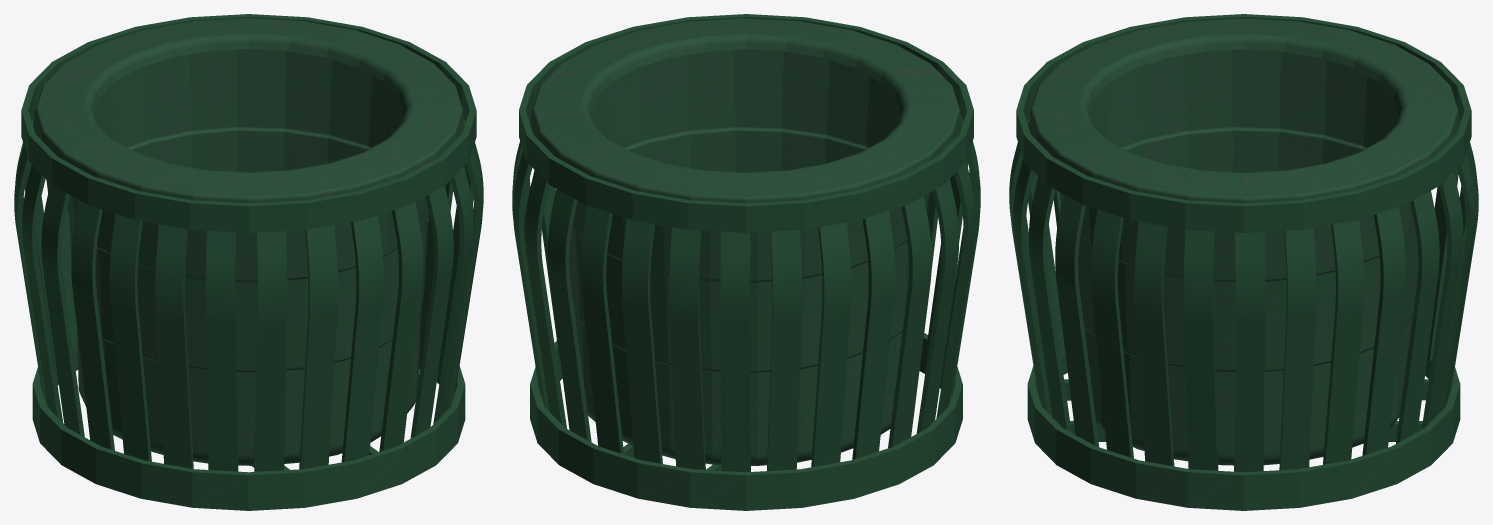
3 views of the same model, side by side, from view 1: azimuth 30°, elevation 25°; view 2: azimuth 150°, elevation 25°; view 3: azimuth 270°, elevation 25° (orthographic).
Visible parts, largest first — view 1: mesh7.001_mesh7-geometry, mesh1.001_mesh1-geometry, mesh12.001_mesh12-geometry, mesh13.001_mesh13-geometry, mesh38.001_mesh38-geometry, mesh39.001_mesh39-geometry, mesh40.001_mesh40-geometry, mesh37.001_mesh37-geometry, mesh15.001_mesh15-geometry, mesh36.001_mesh36-geometry, mesh14.001_mesh14-geometry, mesh35.001_mesh35-geometry (+10 smaller); view 2: mesh7.001_mesh7-geometry, mesh1.001_mesh1-geometry, mesh13.001_mesh13-geometry, mesh12.001_mesh12-geometry, mesh21.001_mesh21-geometry, mesh22.001_mesh22-geometry, mesh41.001_mesh41-geometry, mesh19.001_mesh19-geometry, mesh42.001_mesh42-geometry, mesh20.001_mesh20-geometry, mesh23.001_mesh23-geometry, mesh18.001_mesh18-geometry (+9 smaller); view 3: mesh7.001_mesh7-geometry, mesh1.001_mesh1-geometry, mesh13.001_mesh13-geometry, mesh12.001_mesh12-geometry, mesh30.001_mesh30-geometry, mesh28.001_mesh28-geometry, mesh29.001_mesh29-geometry, mesh31.001_mesh31-geometry, mesh26.001_mesh26-geometry, mesh32.001_mesh32-geometry, mesh27.001_mesh27-geometry, mesh33.001_mesh33-geometry (+9 smaller).
Part boxes in pixels (left/top/right/bottom): mesh7.001_mesh7-geometry: left=67, top=49, right=429, bottom=465; mesh1.001_mesh1-geometry: left=33, top=18, right=464, bottom=203; mesh12.001_mesh12-geometry: left=21, top=14, right=476, bottom=232; mesh13.001_mesh13-geometry: left=32, top=350, right=465, bottom=510; mesh38.001_mesh38-geometry: left=254, top=231, right=287, bottom=471; mesh39.001_mesh39-geometry: left=205, top=230, right=238, bottom=471; mesh40.001_mesh40-geometry: left=155, top=224, right=193, bottom=468; mesh37.001_mesh37-geometry: left=299, top=225, right=337, bottom=469; mesh15.001_mesh15-geometry: left=109, top=214, right=151, bottom=461; mesh36.001_mesh36-geometry: left=341, top=215, right=383, bottom=462; mesh14.001_mesh14-geometry: left=71, top=200, right=114, bottom=450; mesh35.001_mesh35-geometry: left=379, top=202, right=423, bottom=451; mesh7.001_mesh7-geometry: left=569, top=49, right=929, bottom=465; mesh1.001_mesh1-geometry: left=530, top=18, right=961, bottom=203; mesh13.001_mesh13-geometry: left=530, top=333, right=962, bottom=510; mesh12.001_mesh12-geometry: left=519, top=14, right=973, bottom=232; mesh21.001_mesh21-geometry: left=767, top=230, right=801, bottom=471; mesh22.001_mesh22-geometry: left=720, top=231, right=750, bottom=472; mesh41.001_mesh41-geometry: left=669, top=227, right=705, bottom=469; mesh19.001_mesh19-geometry: left=811, top=222, right=851, bottom=467; mesh42.001_mesh42-geometry: left=621, top=218, right=662, bottom=463; mesh20.001_mesh20-geometry: left=852, top=211, right=895, bottom=459; mesh23.001_mesh23-geometry: left=580, top=205, right=623, bottom=454; mesh18.001_mesh18-geometry: left=888, top=196, right=931, bottom=448; mesh7.001_mesh7-geometry: left=1060, top=49, right=1418, bottom=465; mesh1.001_mesh1-geometry: left=1028, top=18, right=1459, bottom=203; mesh13.001_mesh13-geometry: left=1027, top=355, right=1460, bottom=510; mesh12.001_mesh12-geometry: left=1016, top=14, right=1471, bottom=232; mesh30.001_mesh30-geometry: left=1183, top=230, right=1218, bottom=470; mesh28.001_mesh28-geometry: left=1279, top=228, right=1316, bottom=470; mesh29.001_mesh29-geometry: left=1234, top=232, right=1264, bottom=472; mesh31.001_mesh31-geometry: left=1134, top=221, right=1174, bottom=466; mesh26.001_mesh26-geometry: left=1323, top=220, right=1364, bottom=464; mesh32.001_mesh32-geometry: left=1091, top=209, right=1133, bottom=458; mesh27.001_mesh27-geometry: left=1362, top=207, right=1405, bottom=455; mesh33.001_mesh33-geometry: left=1055, top=194, right=1098, bottom=446.
Size of the model in its own units: 0.626 by 0.4649 by 0.626.
